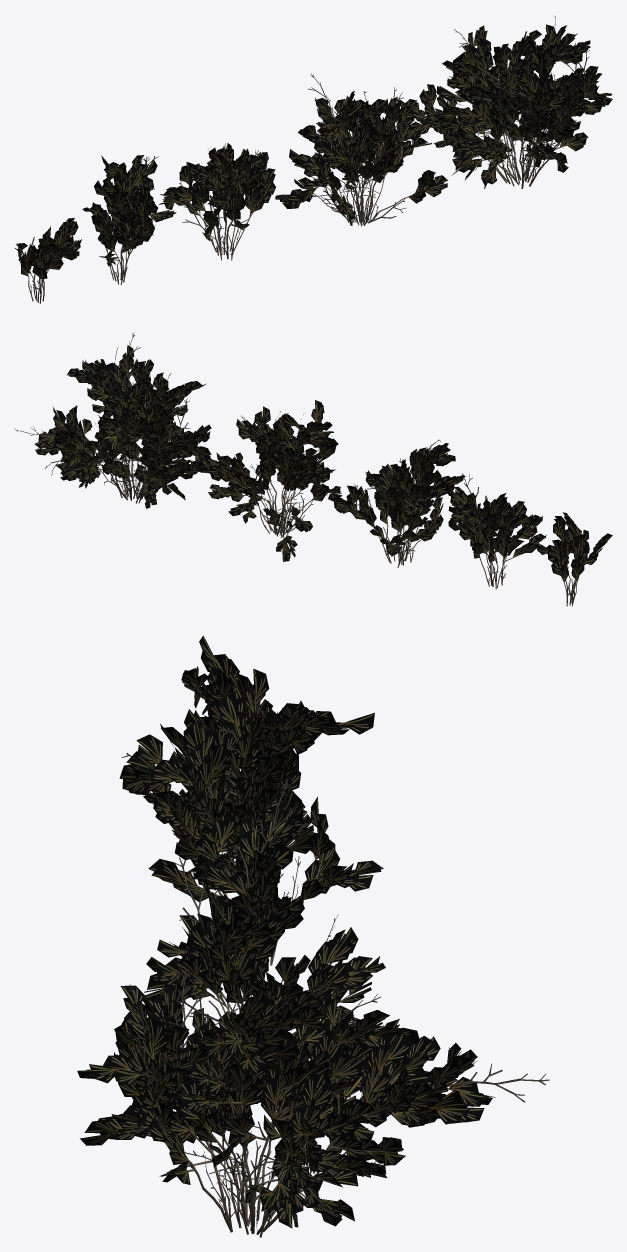
File: wild_rooibos_bush.glb
The picture shows the model from 3 angles, top to bottom: view 1: azimuth 30°, elevation 25°; view 2: azimuth 150°, elevation 25°; view 3: azimuth 270°, elevation 25°; orthographic projection. The views are drawn at different scales.
Visible parts, largest first — view 1: wild_rooibos_bush_a; view 2: wild_rooibos_bush_a; view 3: wild_rooibos_bush_a.
Part boxes in pixels (box(x1,y1,x2,y2)): wild_rooibos_bush_a: box(15, 16, 612, 303); wild_rooibos_bush_a: box(15, 333, 612, 606); wild_rooibos_bush_a: box(77, 635, 549, 1237).
Bounding box in the file's own units: 2.28 × 0.5411 × 0.8433.
2 materials, 2 textured.
